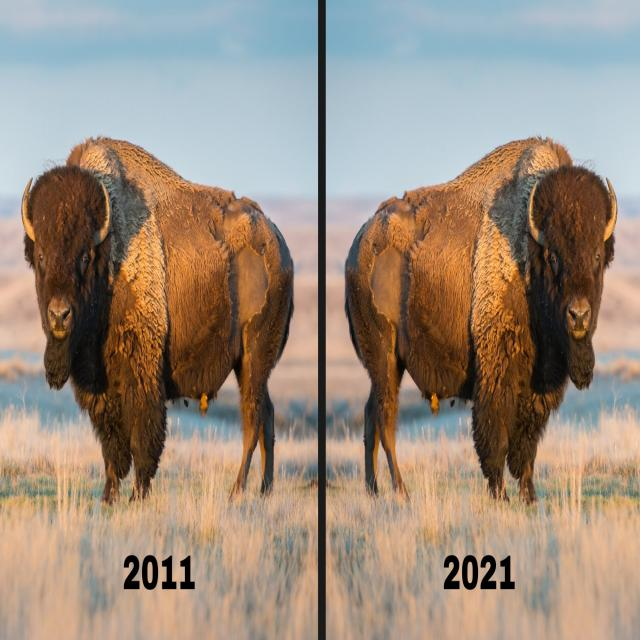Bison: (13, 117, 298, 528), (342, 112, 624, 515)
